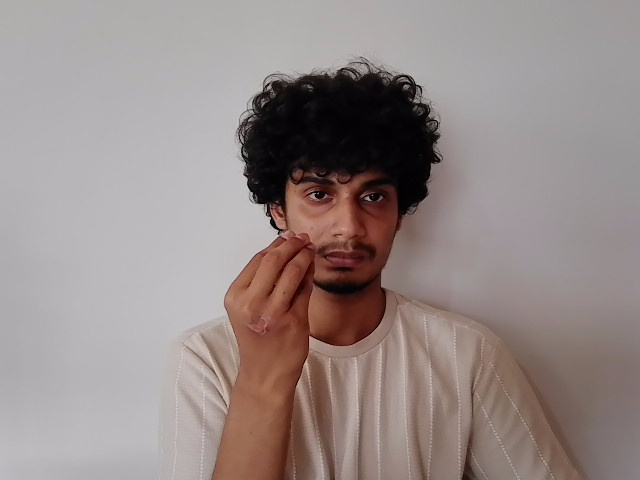eat: (223, 163, 407, 347)
